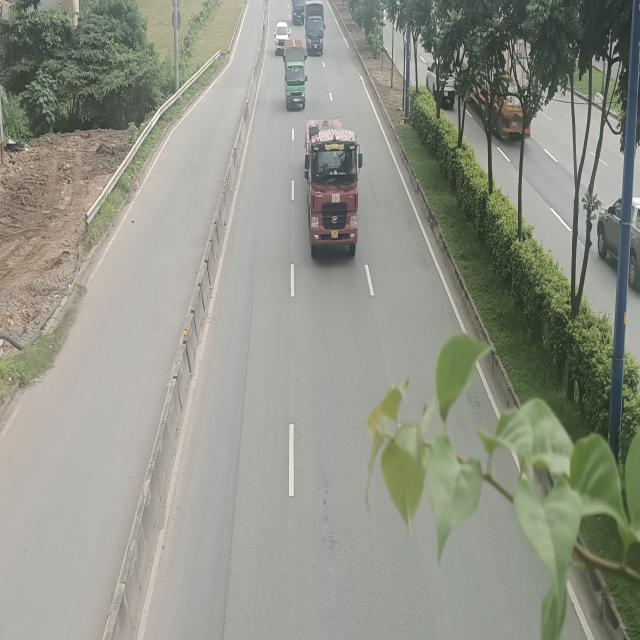container: (305, 116, 364, 256)
truck: (284, 35, 307, 109), (304, 2, 326, 56)
